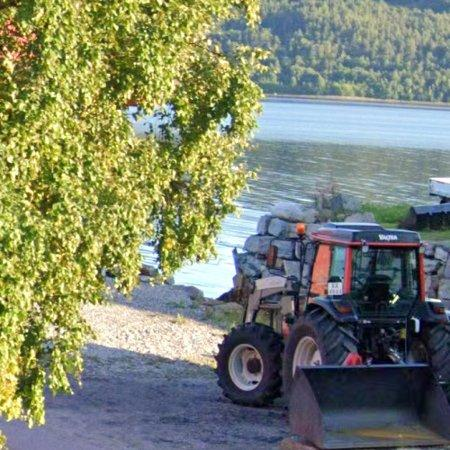tractors: (217, 224, 450, 450)
